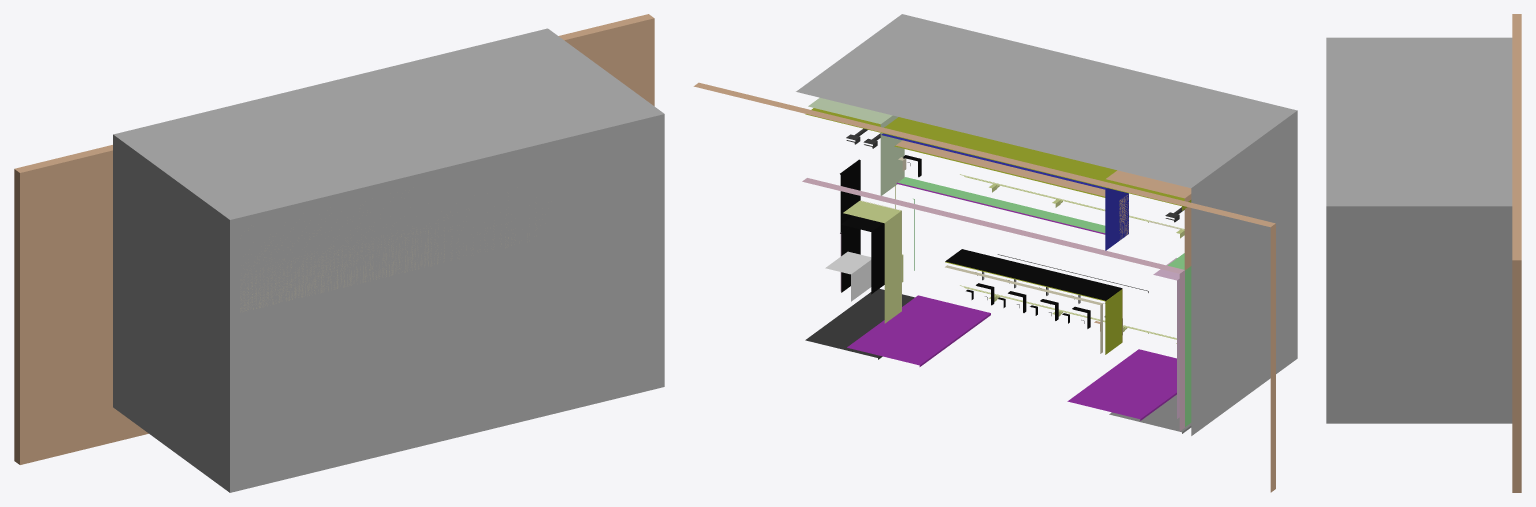
Rendered from boutique_proxy.glb.
The picture shows the model from 3 angles, left to right: view 1: azimuth 30°, elevation 25°; view 2: azimuth 150°, elevation 25°; view 3: azimuth 270°, elevation 25°; orthographic projection. The views are drawn at different scales.
Parts seen in each view (by area): view 1: boutique_proxy; view 2: boutique_proxy; view 3: boutique_proxy.
Boxes of the visible parts, left/top/right/bottom form: boutique_proxy: left=14, top=14, right=664, bottom=492; boutique_proxy: left=693, top=14, right=1297, bottom=492; boutique_proxy: left=1326, top=14, right=1521, bottom=492.
Size of the model in its own units: 12.53 by 5.81 by 4.2.
